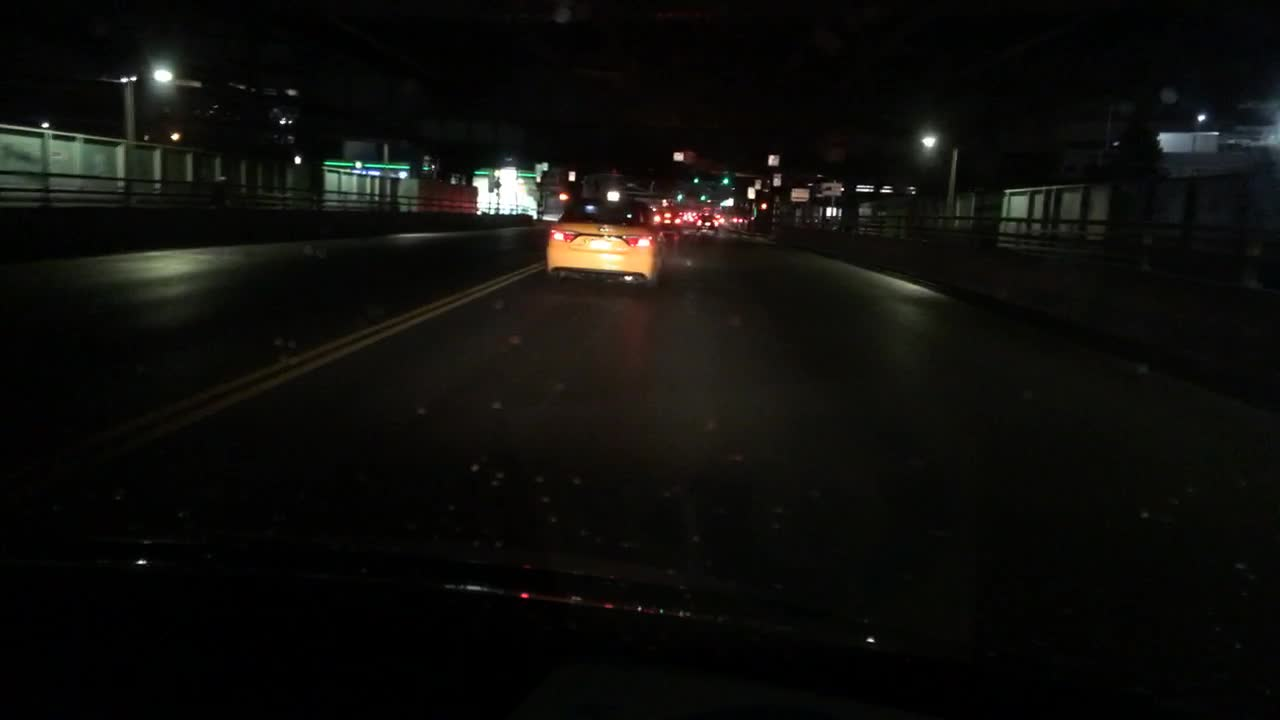car: (544, 187, 662, 296), (718, 206, 745, 233), (694, 205, 721, 232), (746, 215, 773, 238), (859, 214, 886, 236), (619, 191, 668, 203), (661, 203, 680, 229), (817, 215, 841, 230), (679, 208, 700, 223), (800, 217, 818, 230), (712, 206, 721, 226)
traffic light: (755, 197, 769, 215), (691, 173, 704, 185), (694, 193, 707, 205), (719, 173, 730, 185), (673, 191, 683, 203)
traffic sign: (340, 139, 376, 164), (820, 182, 841, 197), (787, 188, 808, 202), (670, 149, 682, 163), (770, 173, 781, 188), (742, 187, 755, 199), (565, 169, 576, 182), (766, 154, 778, 164), (754, 179, 760, 191)
